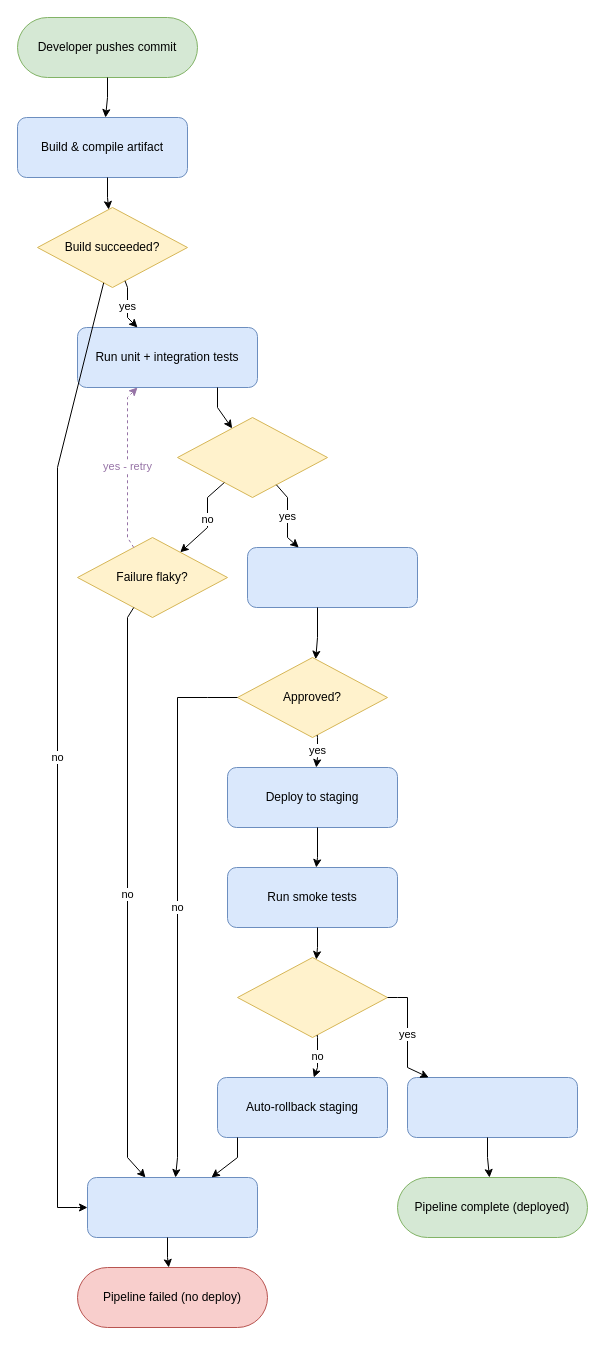
This 605x1345 diagram has some shape labels left out. Each missing label, with the centre of its shape:
"Await manual approval" belongs at point (332, 577).
"Notify team of failure" belongs at point (172, 1207).
"Promote to production" belongs at point (492, 1107).
"Smoke tests pass?" belongs at point (312, 997).
"Tests pass?" belongs at point (252, 457).
